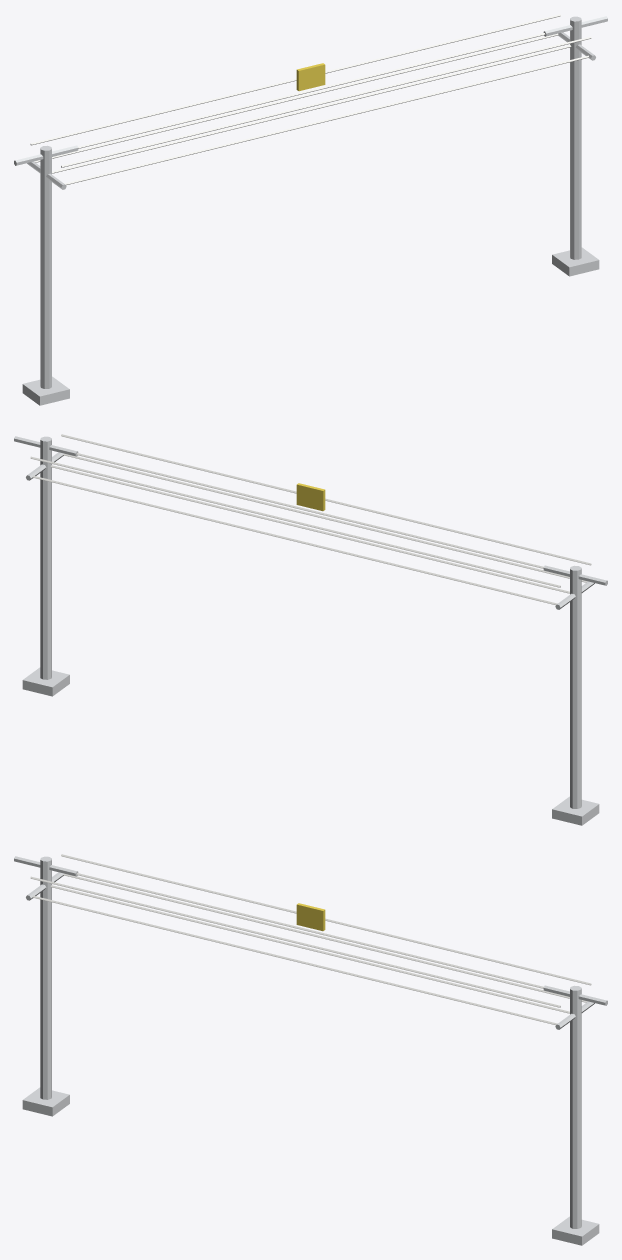
File: fish-market-and-trawler-quay-fish-market-and-trawler-q-9bd4948b__37279.glb
3 views of the same model, one above another, from view 1: azimuth 30°, elevation 25°; view 2: azimuth 150°, elevation 25°; view 3: azimuth 330°, elevation 25° (orthographic).
Visible parts, largest first — view 1: fish-market-and-trawler-quay-gull-deterrent-line; view 2: fish-market-and-trawler-quay-gull-deterrent-line; view 3: fish-market-and-trawler-quay-gull-deterrent-line.
Boxes of the visible parts, bbox=[...] form: fish-market-and-trawler-quay-gull-deterrent-line: bbox=[14, 14, 607, 405]; fish-market-and-trawler-quay-gull-deterrent-line: bbox=[14, 434, 607, 825]; fish-market-and-trawler-quay-gull-deterrent-line: bbox=[14, 854, 607, 1245].
Size of the model in its own units: 6.7 by 2.86 by 0.7001.
